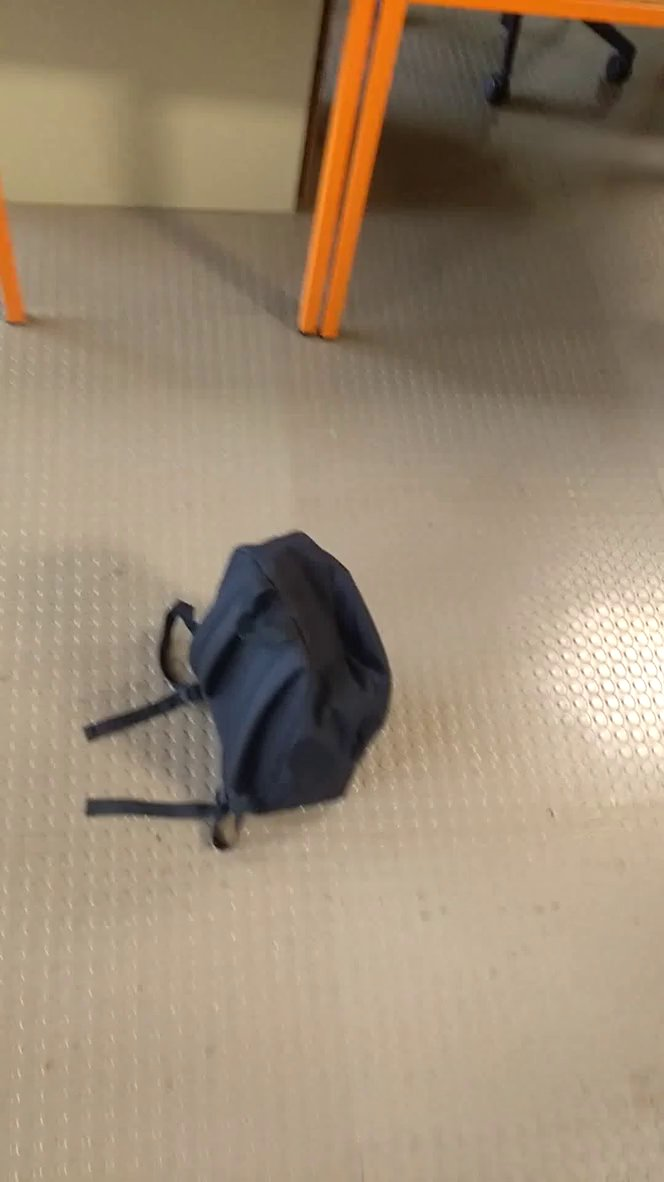bag: (82, 520, 402, 867)
